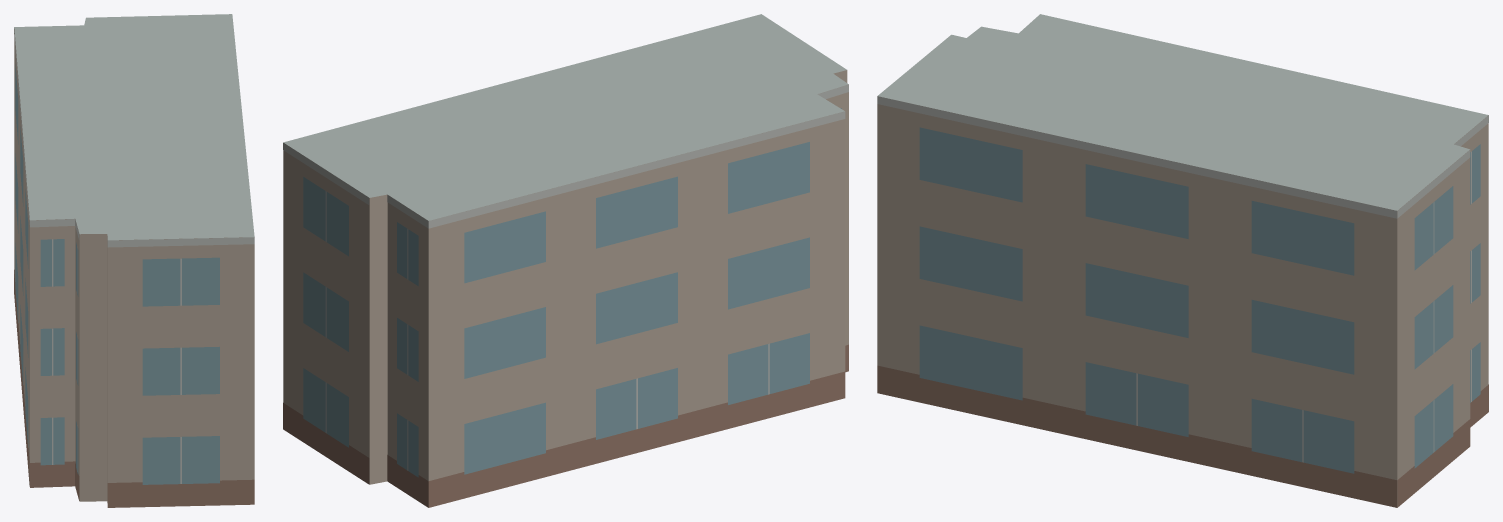
File: survey-upis-32644572.glb
The picture shows the model from 3 angles, left to right: view 1: azimuth 30°, elevation 25°; view 2: azimuth 150°, elevation 25°; view 3: azimuth 270°, elevation 25°; orthographic projection. The views are drawn at different scales.
Parts seen in each view (by area): view 1: survey-upis-32644572.tmp; view 2: survey-upis-32644572.tmp; view 3: survey-upis-32644572.tmp.
Boxes of the visible parts, x1=… form: survey-upis-32644572.tmp: x1=14, y1=14, x2=254, y2=507; survey-upis-32644572.tmp: x1=283, y1=14, x2=848, y2=507; survey-upis-32644572.tmp: x1=877, y1=14, x2=1488, y2=507.
Bounding box in the file's own units: 13.01 × 9.15 × 17.08.
